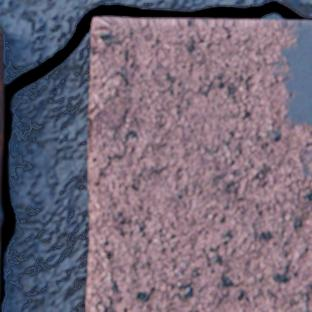brick: (85, 17, 311, 311), (0, 28, 4, 227)
crack: (0, 1, 311, 311)
